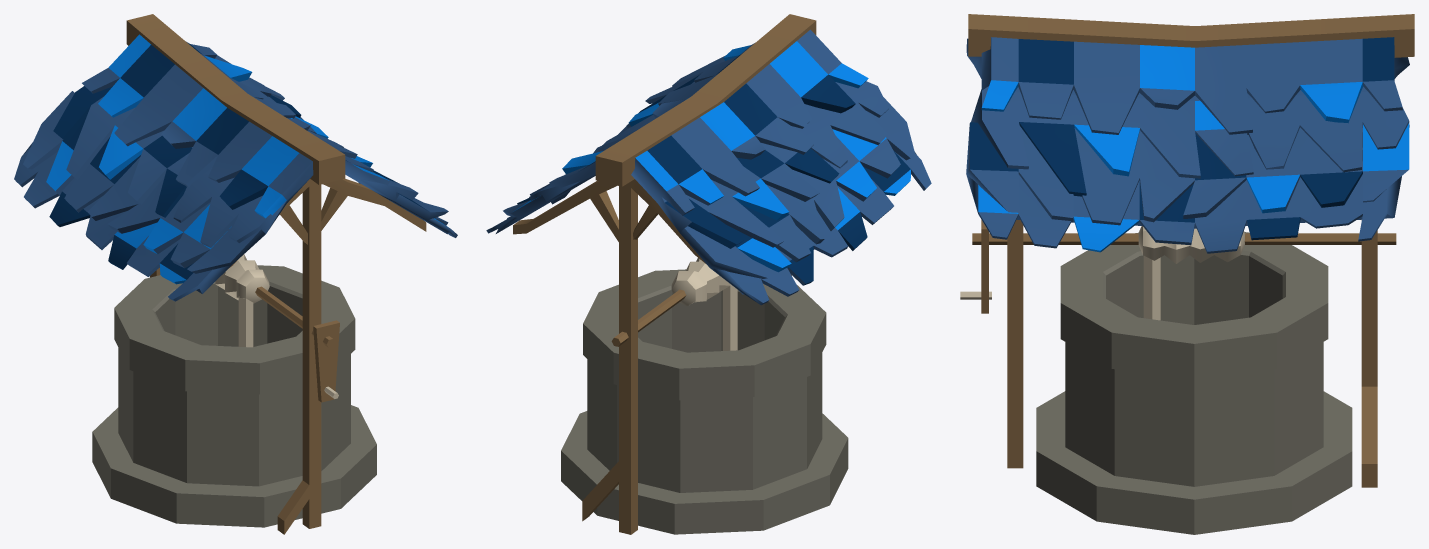
File: Puit.fbx
The picture shows the model from 3 angles, left to right: view 1: azimuth 30°, elevation 25°; view 2: azimuth 150°, elevation 25°; view 3: azimuth 270°, elevation 25°; orthographic projection. The views are drawn at different scales.
Parts seen in each view (by area): view 1: pCylinder6; view 2: pCylinder6; view 3: pCylinder6.
Boxes of the visible parts, left/top/right/bottom form: pCylinder6: left=14, top=14, right=457, bottom=534; pCylinder6: left=486, top=14, right=931, bottom=534; pCylinder6: left=960, top=14, right=1414, bottom=534.
Size of the model in its own units: 4.8 by 6 by 5.56.
